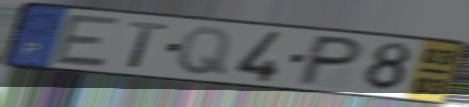4: (232, 29, 283, 84)
8: (358, 41, 412, 94)
E: (50, 12, 125, 70)
P: (292, 33, 368, 88)
Q: (174, 25, 235, 78)
T: (125, 20, 172, 71)
